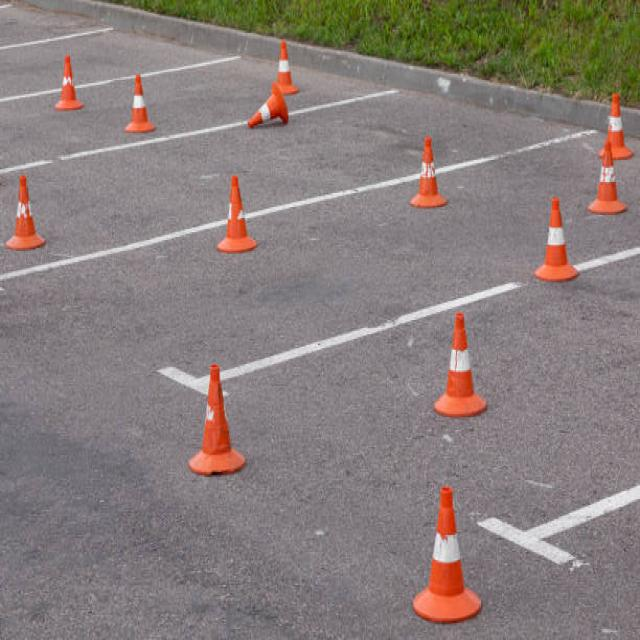Traffic Cone: (406, 467, 492, 635), (184, 351, 258, 498), (426, 295, 499, 439), (520, 185, 584, 293), (0, 152, 57, 268), (572, 127, 631, 237), (395, 129, 458, 221), (106, 56, 164, 150), (591, 70, 640, 180), (212, 171, 264, 263), (236, 72, 295, 141), (44, 44, 92, 125), (266, 32, 303, 112)
